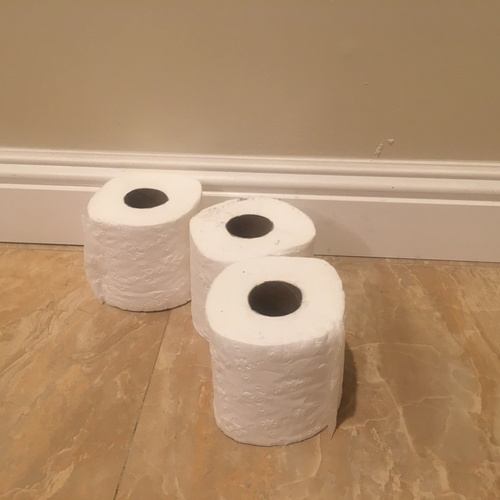roll: (205, 254, 349, 448), (187, 194, 320, 343), (84, 168, 204, 314)
